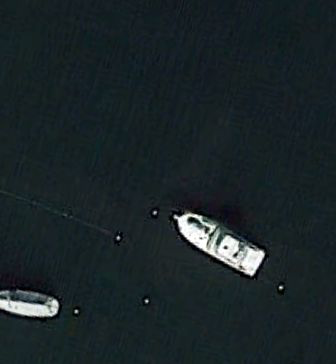boat: (171, 211, 266, 279)
